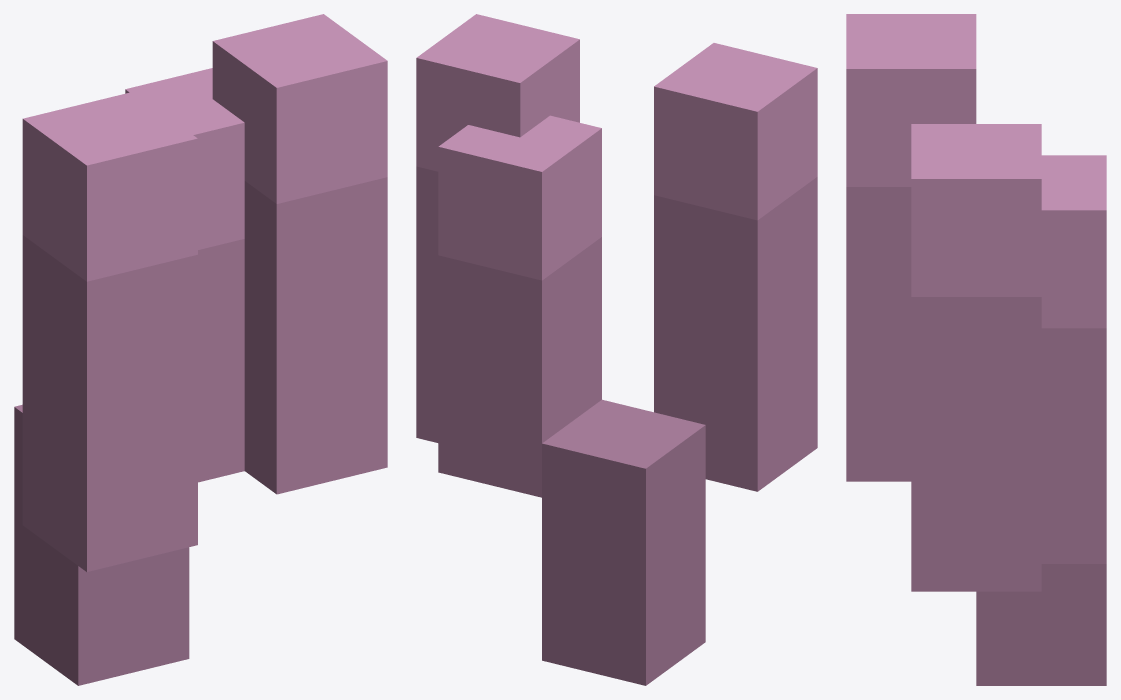
Rendered from coral_blando_02.glb.
3 renders of one model, left to right at view 1: azimuth 30°, elevation 25°; view 2: azimuth 150°, elevation 25°; view 3: azimuth 270°, elevation 25°, orthographic. The views are drawn at different scales.
Visible parts, largest first — view 1: coral_blando_02; view 2: coral_blando_02; view 3: coral_blando_02.
Boxes of the visible parts, x1,y1,x2,y2 form: coral_blando_02: (14,14,387,685); coral_blando_02: (416,14,817,685); coral_blando_02: (846,14,1106,685).
Bounding box in the file's own units: 0.6 × 1 × 0.4.
